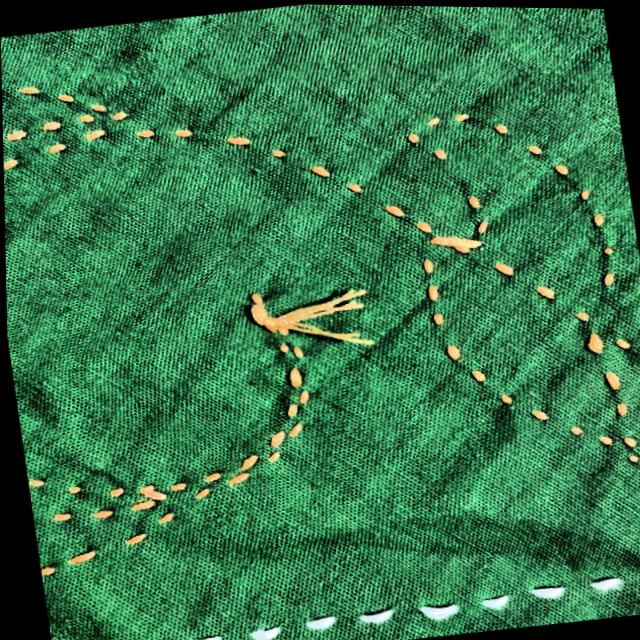Stitch: (212, 259, 394, 371)
